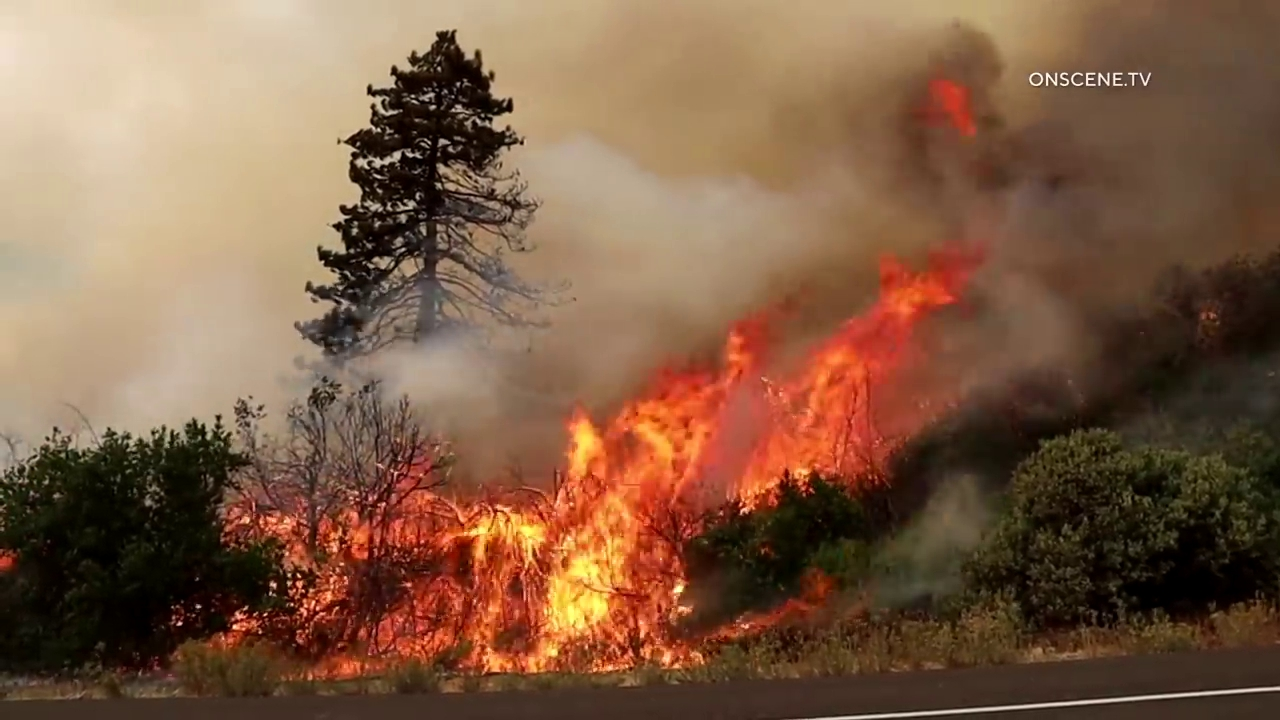forest_fire: (228, 255, 975, 671)
